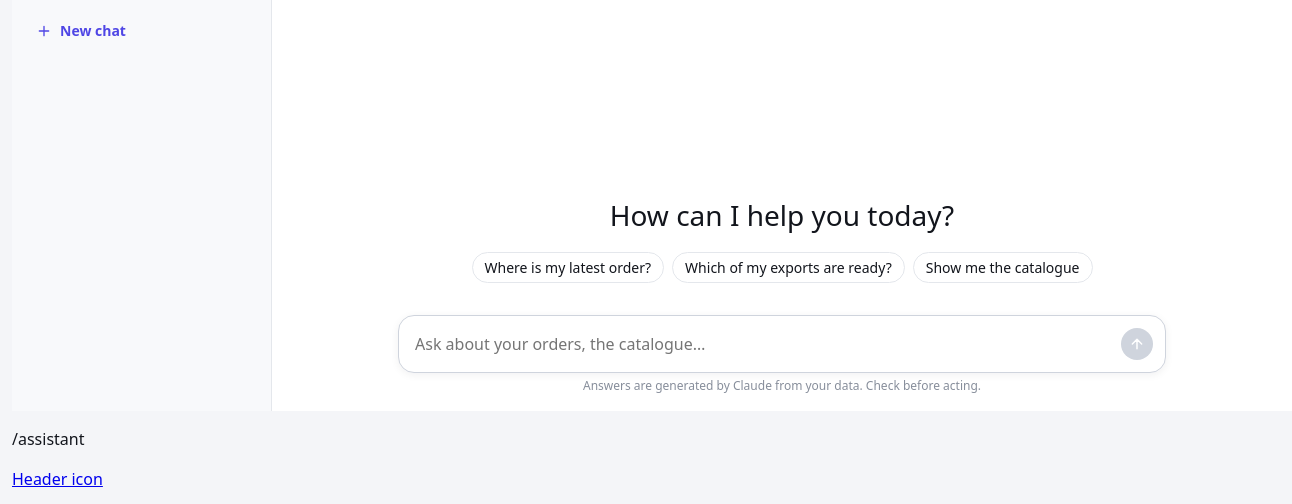
it: AssistantPage › starts an empty chat on New chat, keeping a draft
Step 1. Type "Old?" into the text box named "Your question" → (764,344), box left=415, top=328, right=1113, bottom=360
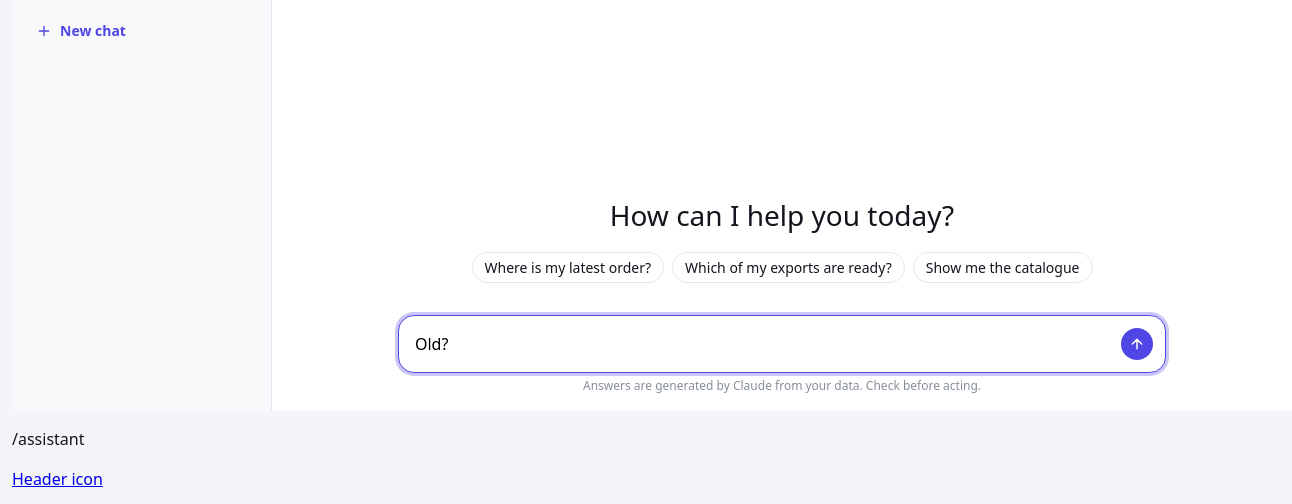
Step 2. Click the button named "Send" → (1137,344), box left=1121, top=328, right=1153, bottom=360
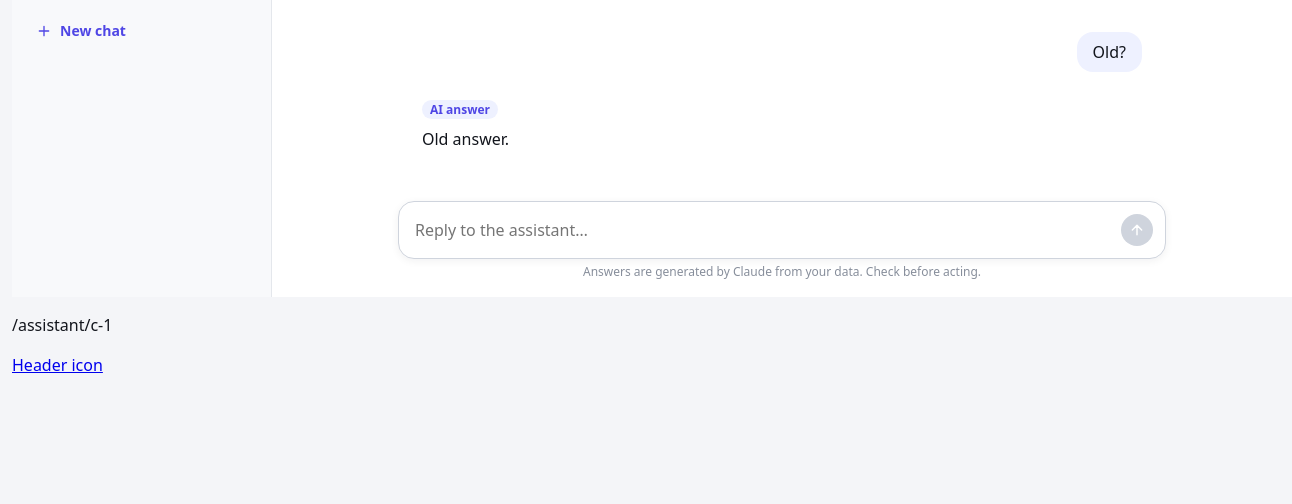
Result: the text "Old answer." is shown at left=422, top=128, right=509, bottom=150
Step 3. Type "Keep me" into the text box named "Your question" → (764,230), box left=415, top=214, right=1113, bottom=246
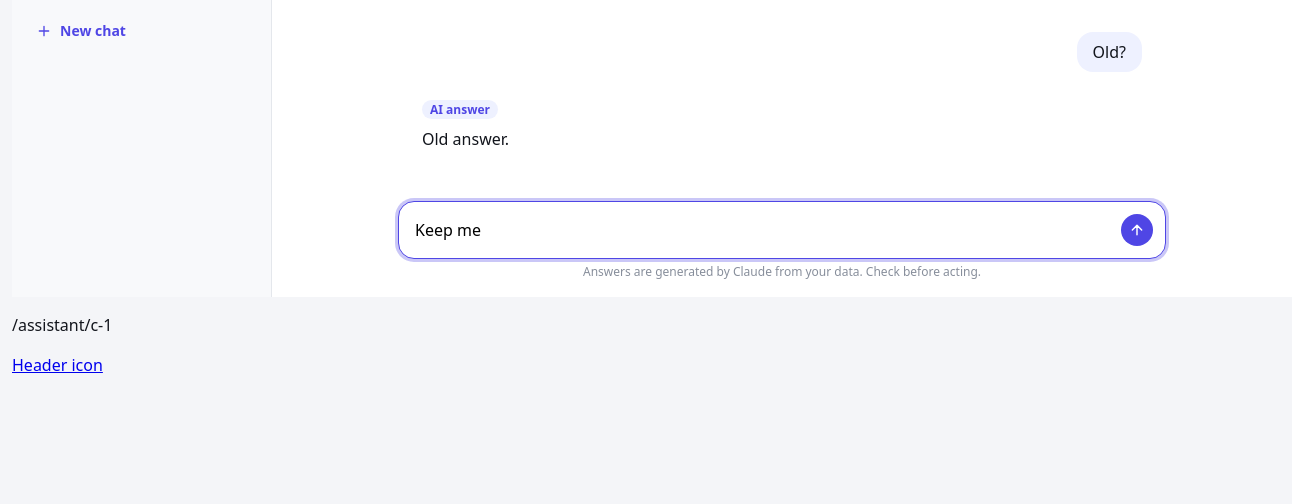
Step 4. Click the button "New chat" → (142,30), box left=24, top=12, right=259, bottom=49
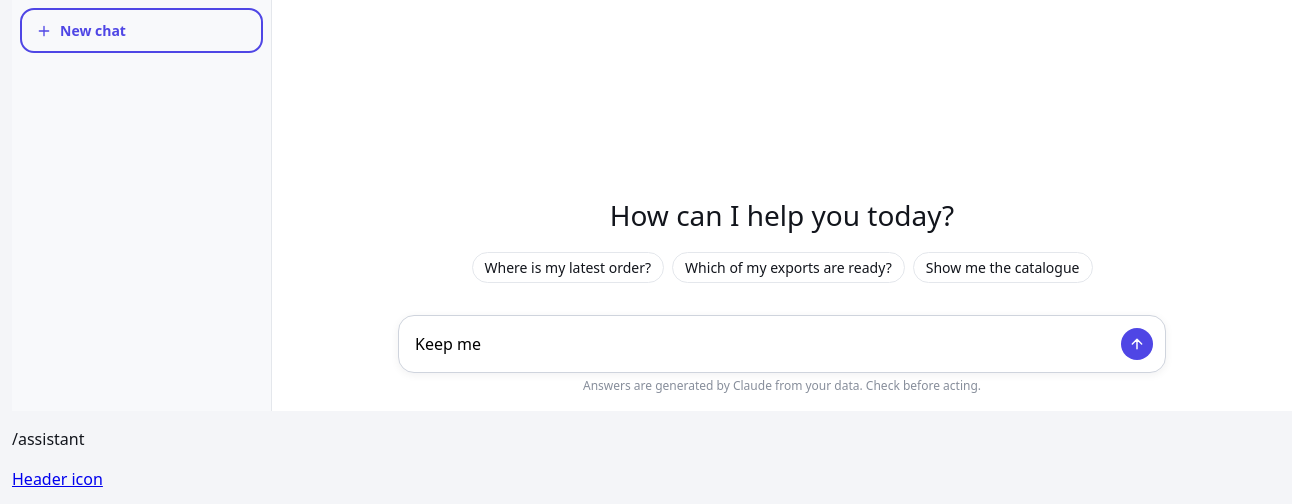
Result: the text box named "Your question" holds "Keep me" at left=415, top=328, right=1113, bottom=360
Result: the heading "How can I help you today?" is shown at left=610, top=194, right=954, bottom=236
Result: the text "Old answer." is gone
